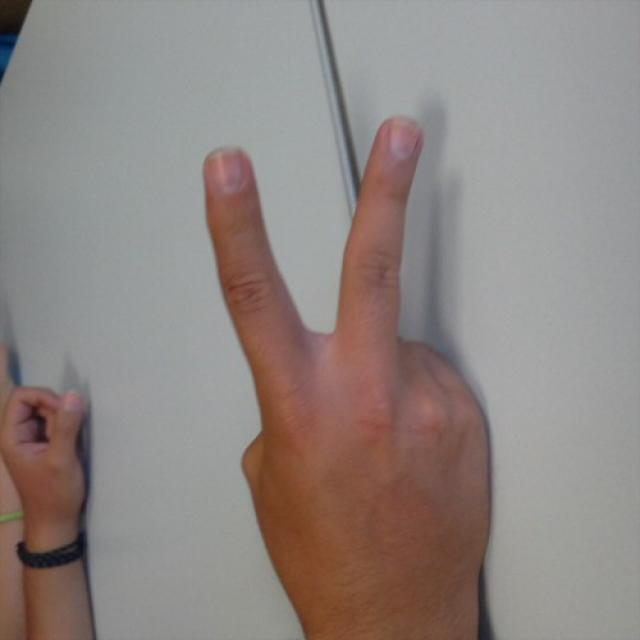scissors: (201, 114, 494, 604)
